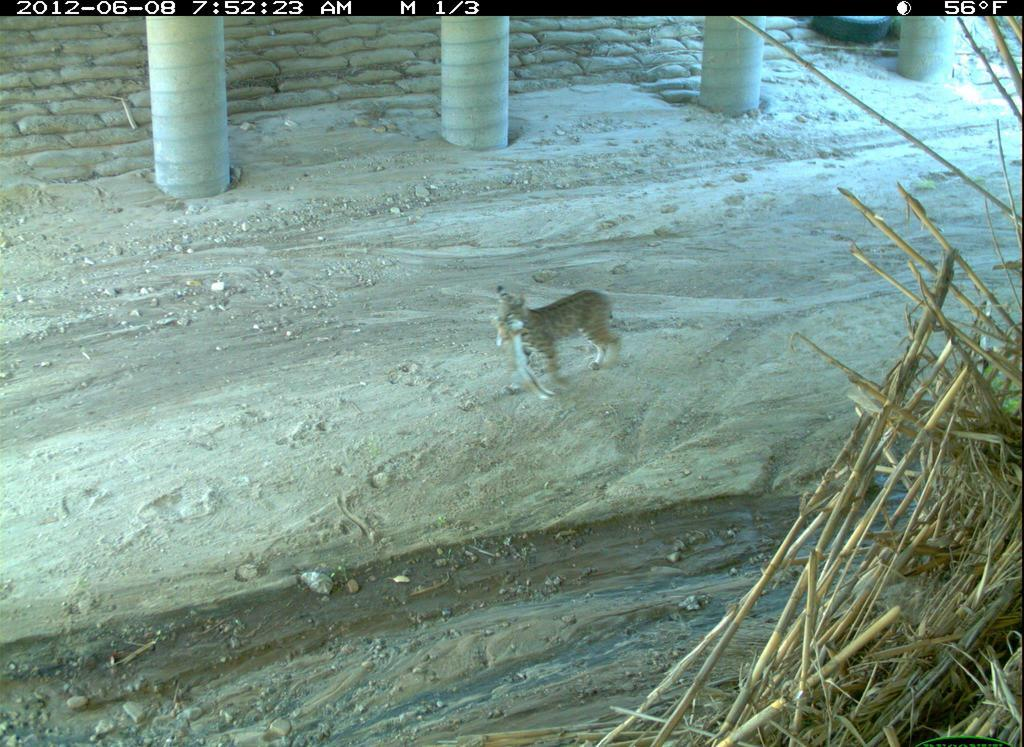bobcat: (486, 273, 633, 409)
